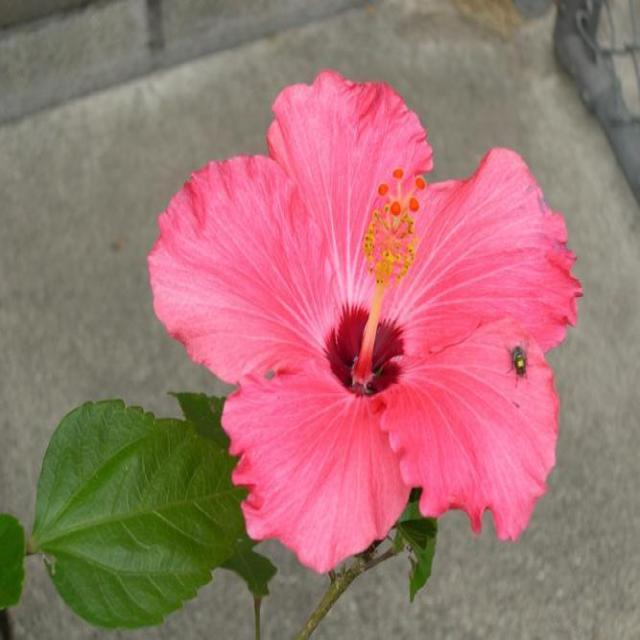hibiscus: (94, 46, 605, 607)
